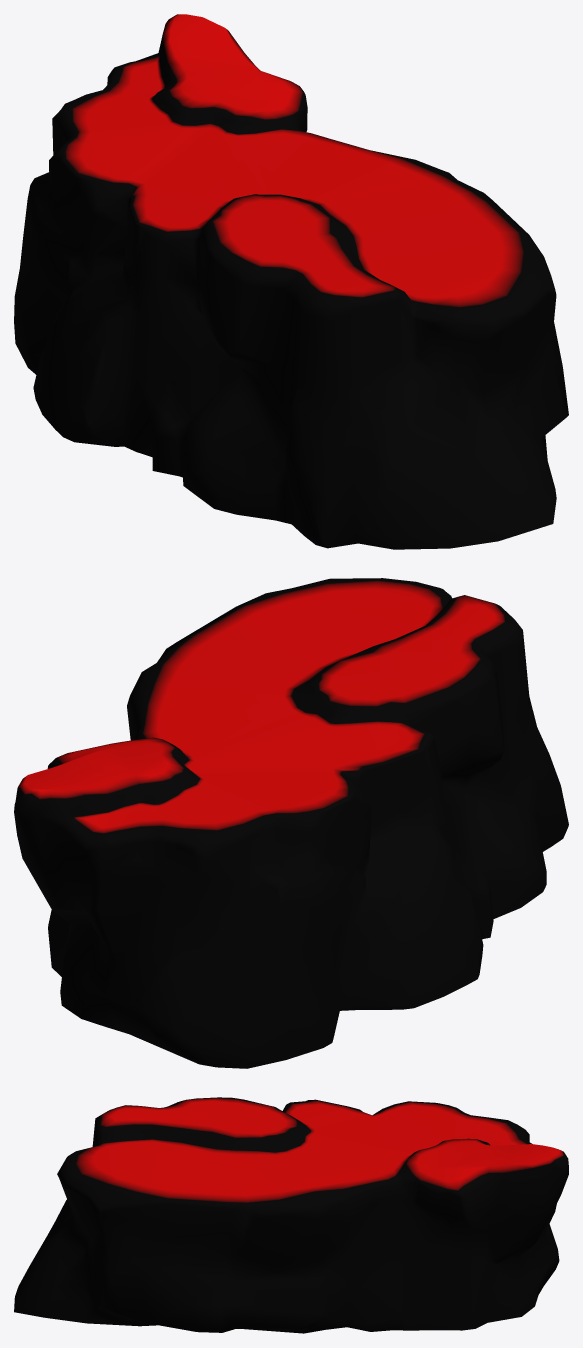
Rendered from Shitou_hill_06.fbx.
The picture shows the model from 3 angles, top to bottom: view 1: azimuth 30°, elevation 25°; view 2: azimuth 150°, elevation 25°; view 3: azimuth 270°, elevation 25°; orthographic projection. The views are drawn at different scales.
Parts seen in each view (by area): view 1: Shitou_hill_06_LOD0; view 2: Shitou_hill_06_LOD0; view 3: Shitou_hill_06_LOD0.
Part boxes in pixels (left/top/right/bottom): Shitou_hill_06_LOD0: left=14, top=14, right=568, bottom=549; Shitou_hill_06_LOD0: left=14, top=578, right=568, bottom=1068; Shitou_hill_06_LOD0: left=14, top=1097, right=568, bottom=1333.
Size of the model in its own units: 369 by 235 by 648.
